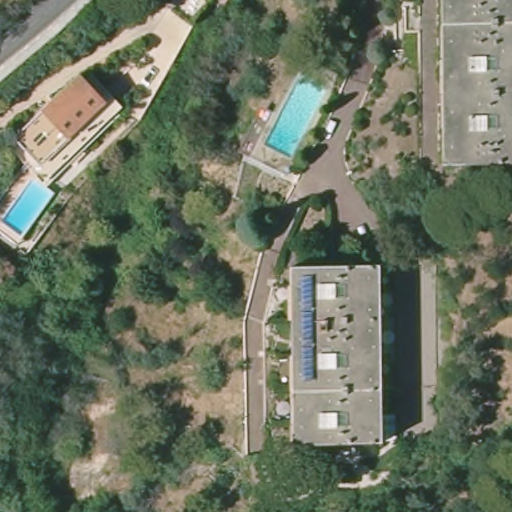pool: (267, 76, 331, 162), (5, 181, 58, 238)
